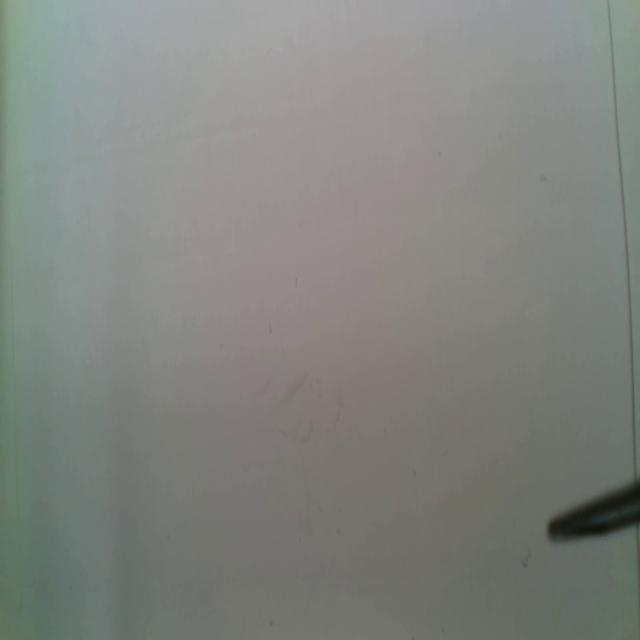crease: (607, 1, 637, 477)
